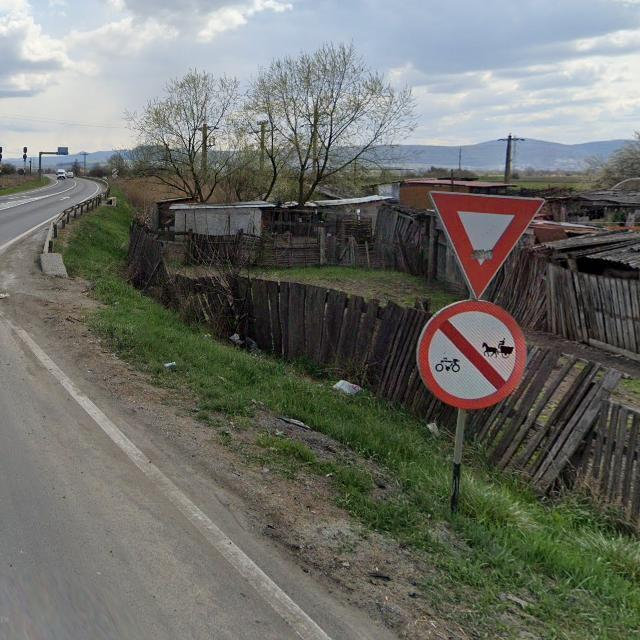prio_give_way: (428, 190, 544, 300)
